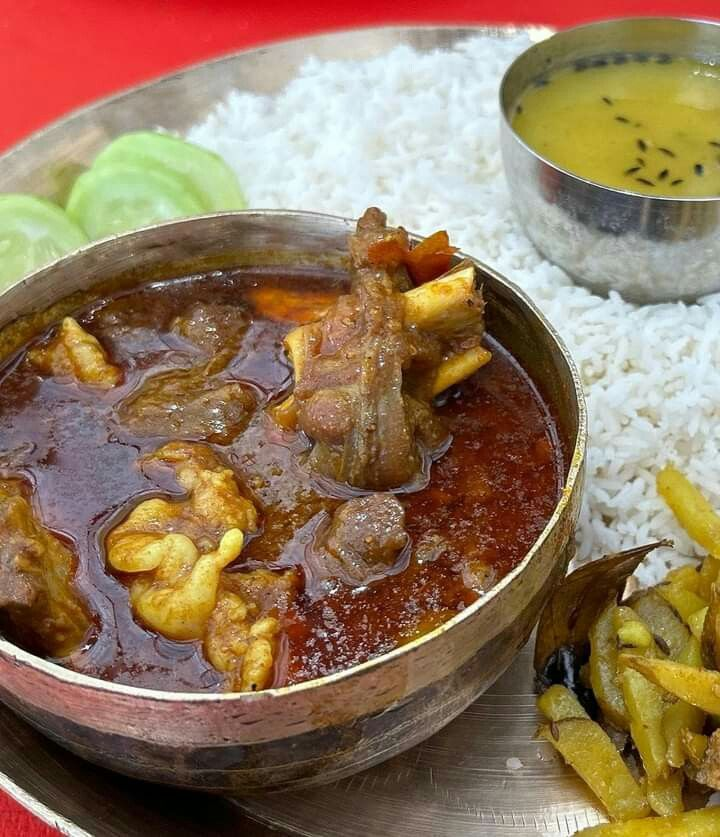bhat: (217, 56, 717, 572)
dal: (511, 53, 714, 205)
sabji: (536, 550, 718, 834)
